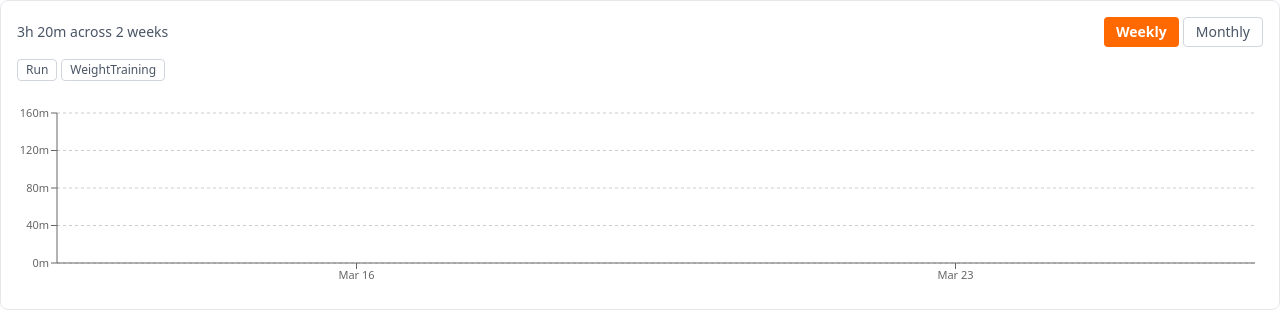
it: ActivityTrendsChart — US3 type filter › selecting Run shows only run duration in summary
Click the button "Run": (37, 70) [17,59,57,81]
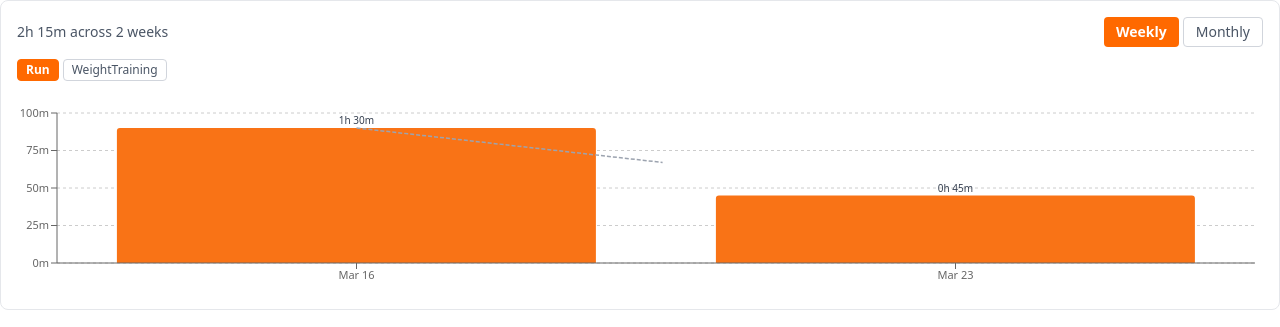
Check: the text "2h 15m across 2 weeks" is shown, box [17,22,168,42]
